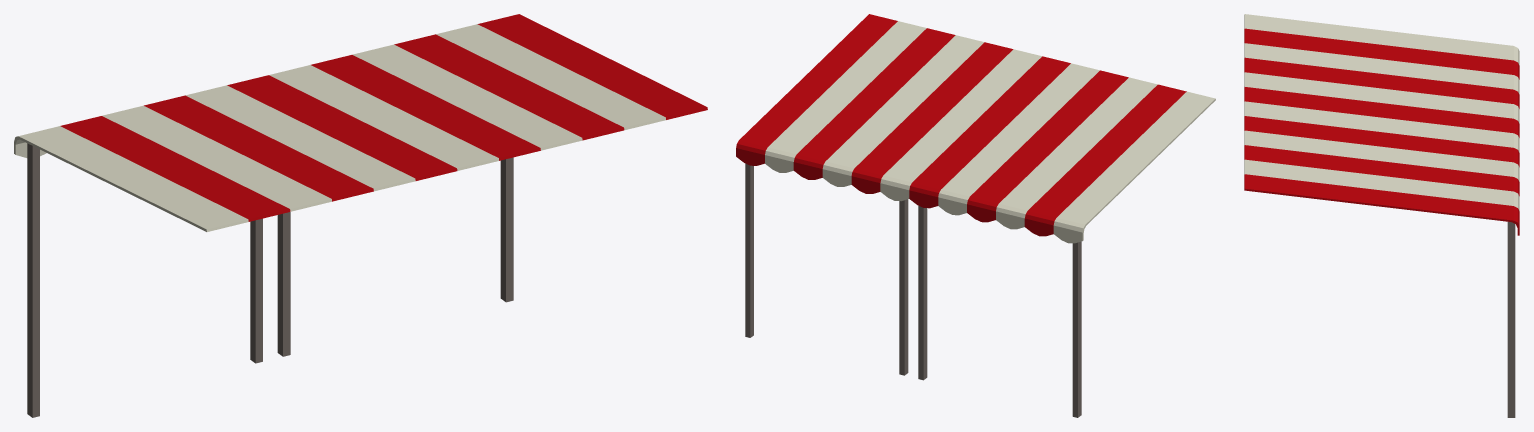
File: roadcafe_mod_2.fbx
3 views of the same model, side by side, from view 1: azimuth 30°, elevation 25°; view 2: azimuth 150°, elevation 25°; view 3: azimuth 270°, elevation 25° (orthographic). The views are drawn at different scales.
Parts seen in each view (by area): view 1: roadcafe_mod_2; view 2: roadcafe_mod_2; view 3: roadcafe_mod_2.
Part boxes in pixels (left/top/right/bottom): roadcafe_mod_2: left=14, top=14, right=707, bottom=417; roadcafe_mod_2: left=736, top=14, right=1215, bottom=417; roadcafe_mod_2: left=1244, top=14, right=1519, bottom=417.
Bounding box in the file's own units: 6 × 4 × 3.73.
